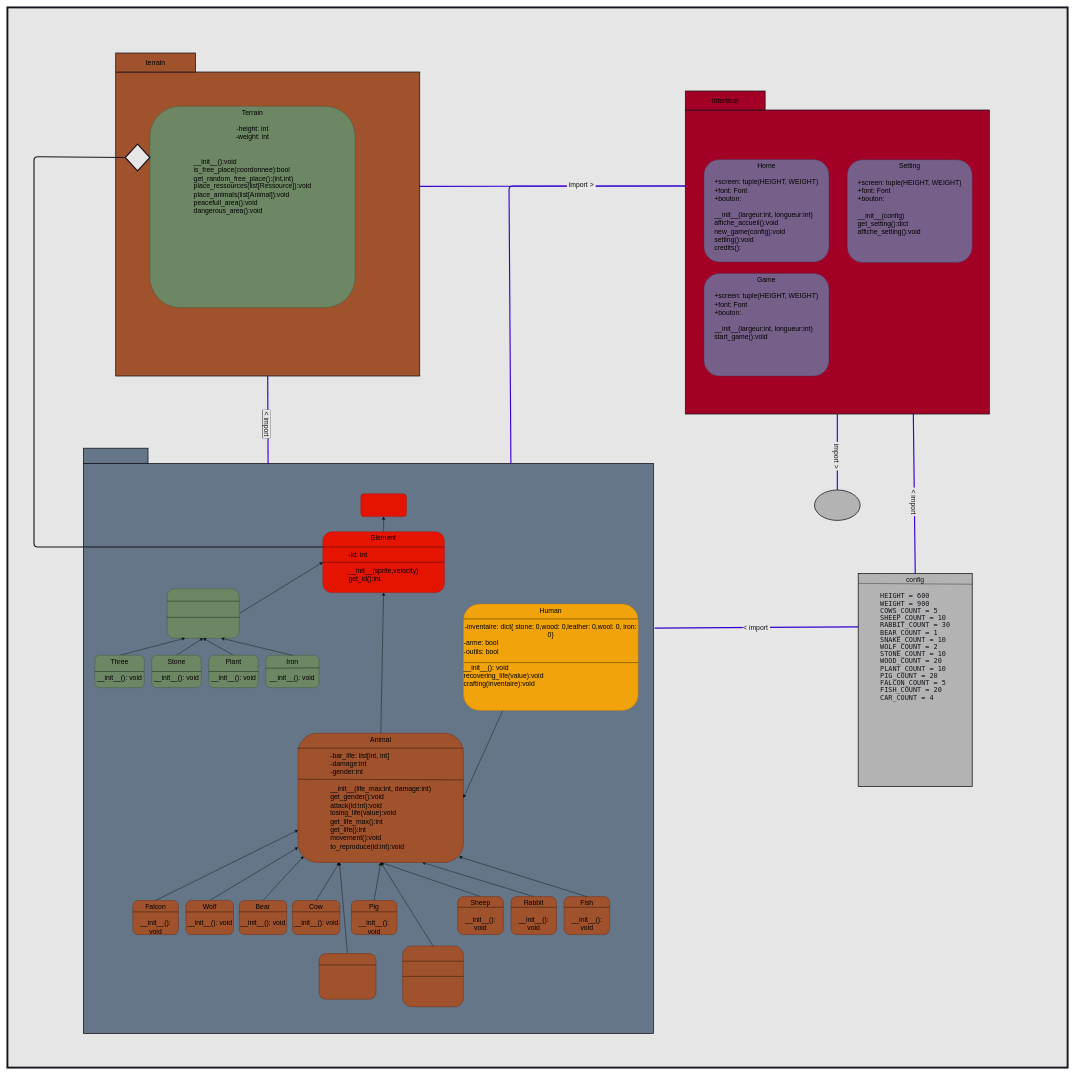
Some shapes in this 1075 by 1075 pixel diagram are drawn without their labels. The box of each missing label's shape, as (x1, y1, x2, y2) in pixels:
Car -damage __init__():void: (319, 953, 376, 999)
elements: (83, 448, 148, 464)
Main: (814, 489, 860, 521)
Ressource -durability:int __init__(durability:int): (167, 588, 239, 638)
Snake -poison __init__(poison:int) poison: int: (402, 946, 463, 1007)
Sprite: (360, 493, 406, 517)
